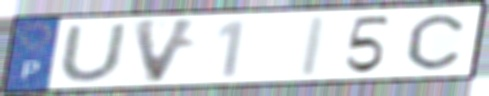1: (215, 18, 247, 79)
5: (342, 14, 393, 74)
C: (404, 12, 467, 72)
I: (295, 13, 332, 79)
U: (56, 21, 130, 84)
V: (130, 16, 203, 86)
